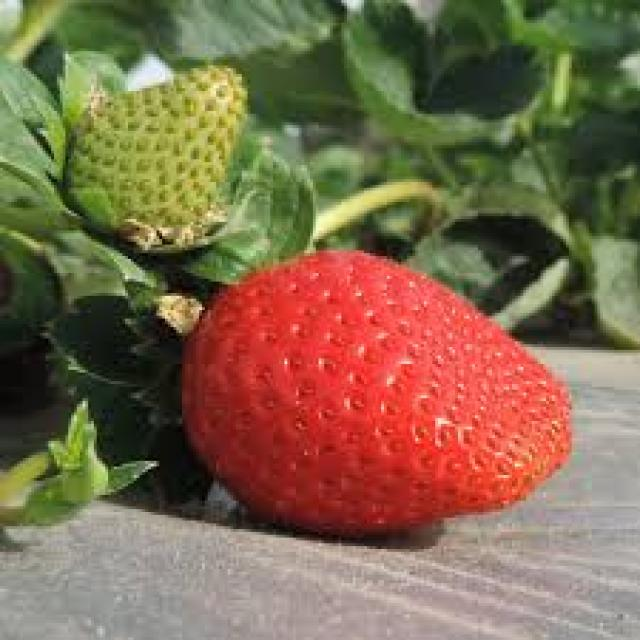strawberry: (167, 258, 590, 541)
